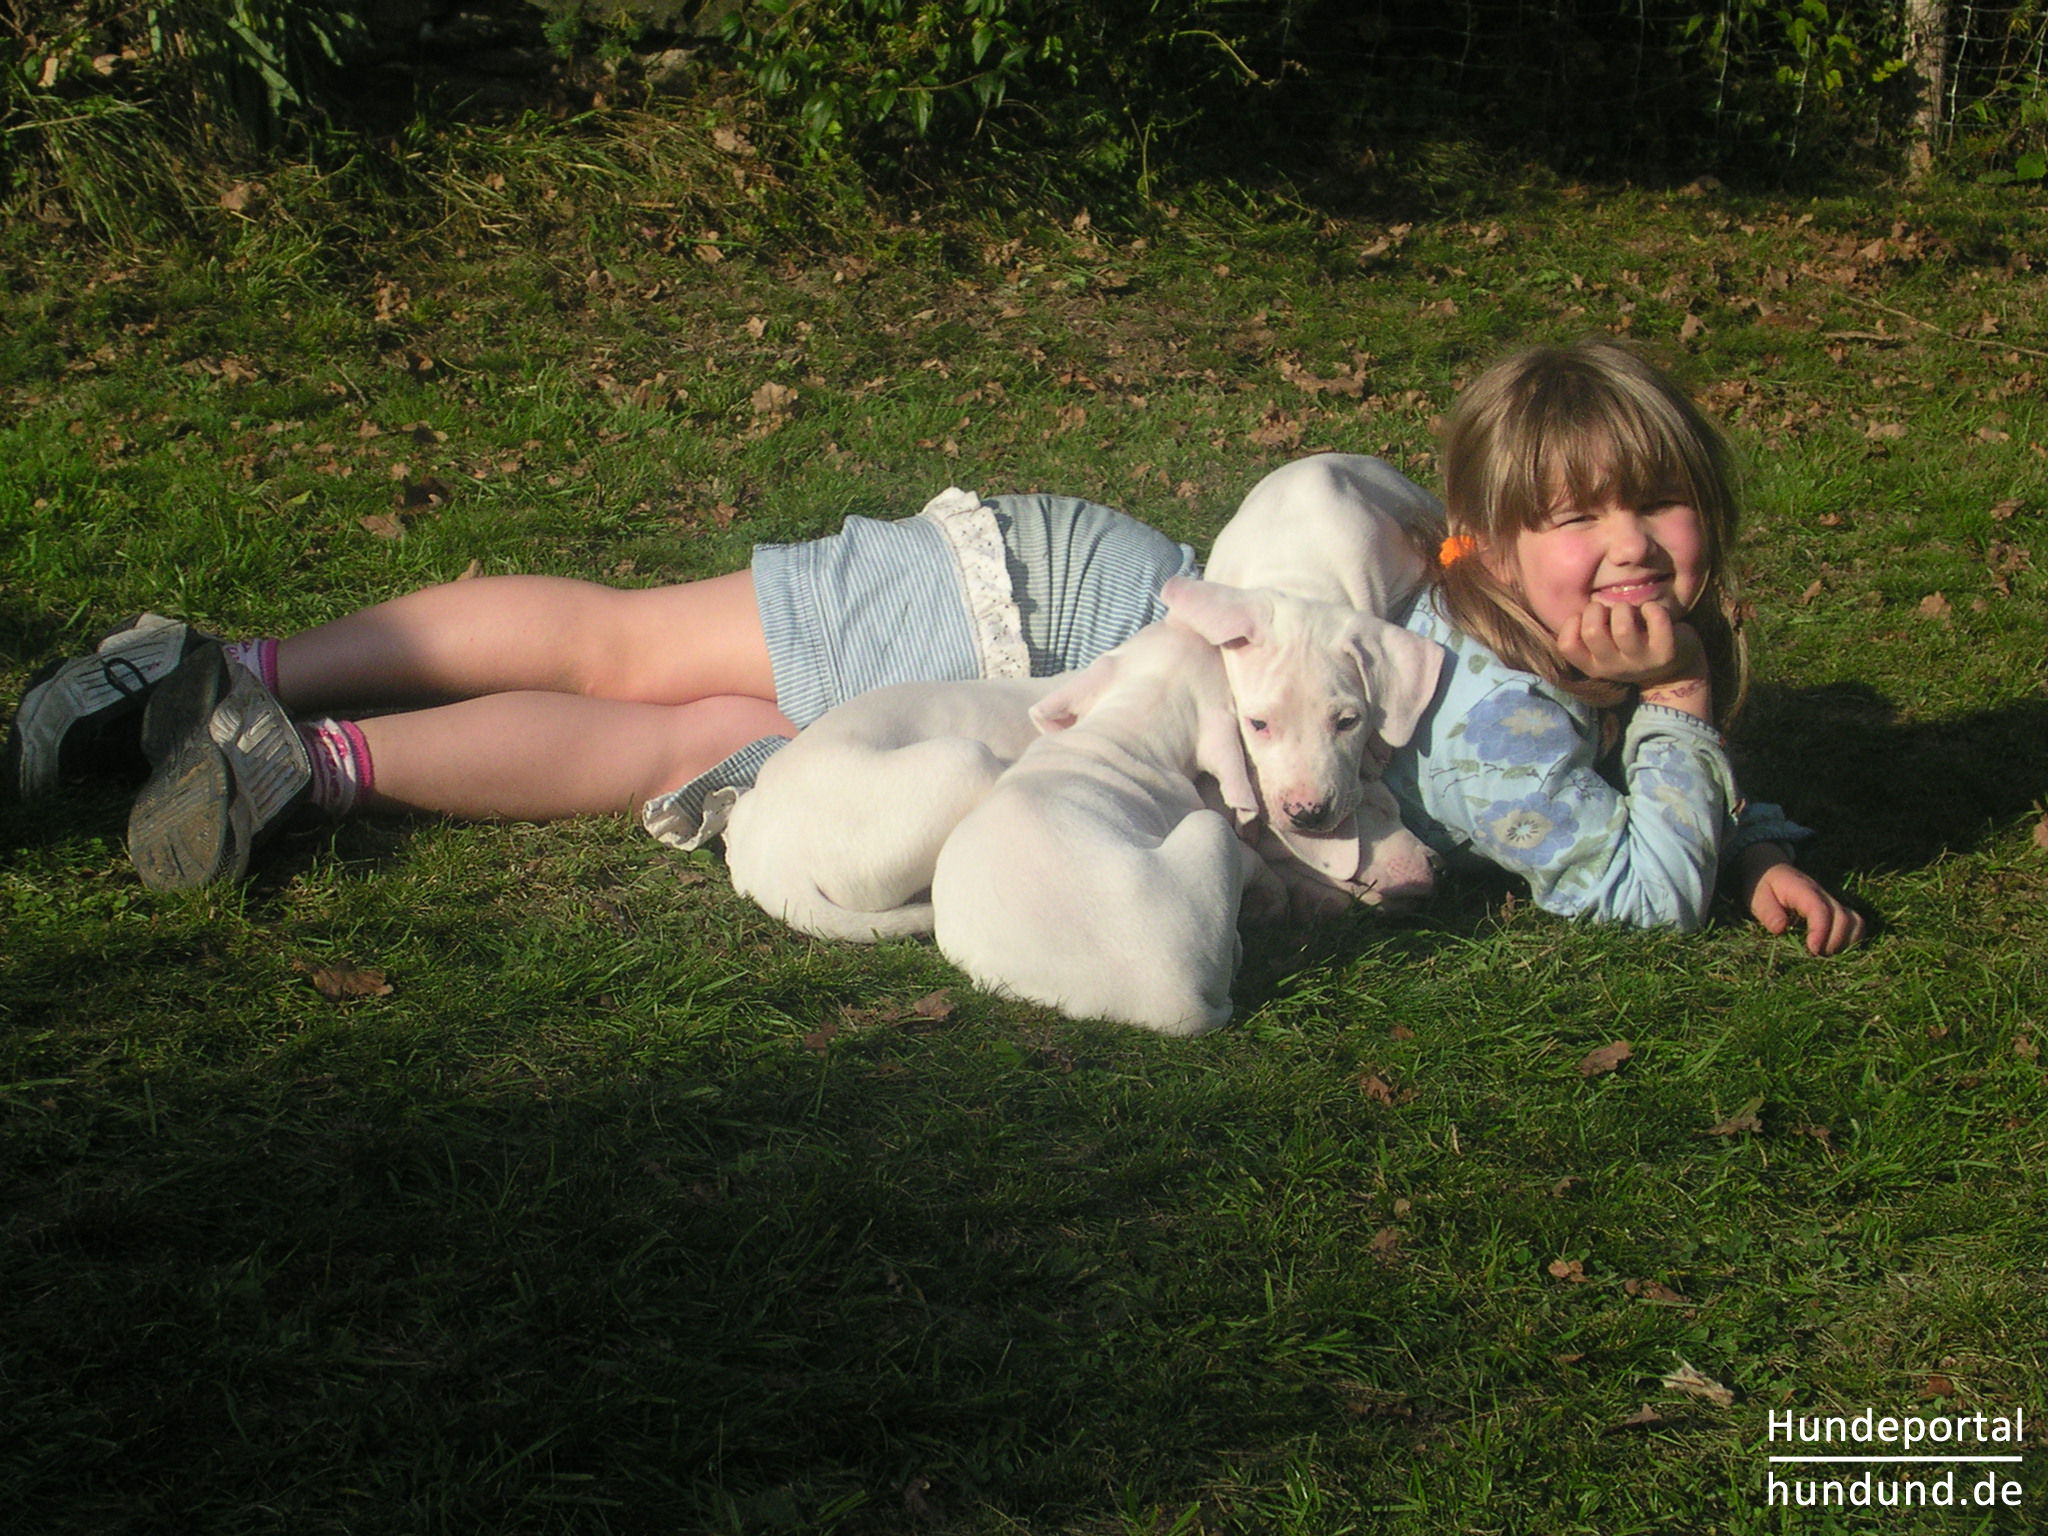dogo_argentino: (718, 669, 1443, 944), (940, 619, 1286, 1044), (1154, 448, 1441, 832)
human_face: (1474, 482, 1702, 653)
person: (0, 343, 1871, 959)
